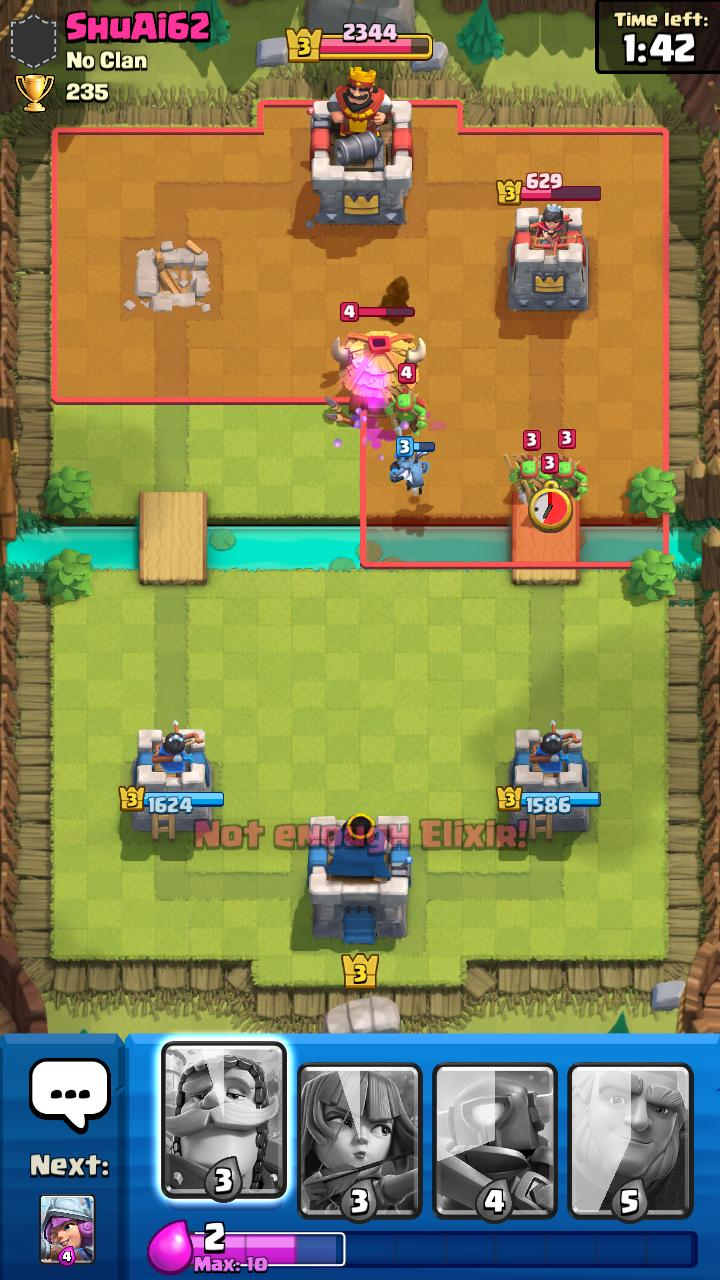ally: (389, 436, 435, 497)
enemy: (326, 302, 429, 427), (503, 430, 552, 505), (381, 363, 427, 435), (552, 429, 588, 501), (522, 452, 569, 505)
